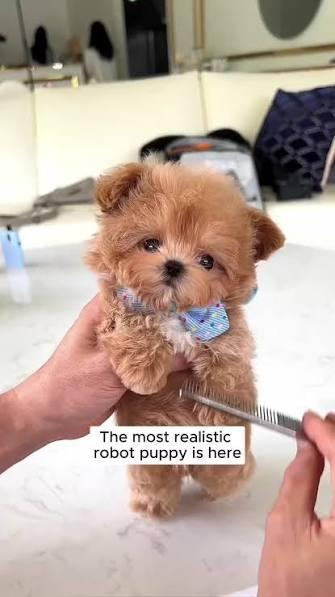non-dog: (83, 160, 286, 518)
